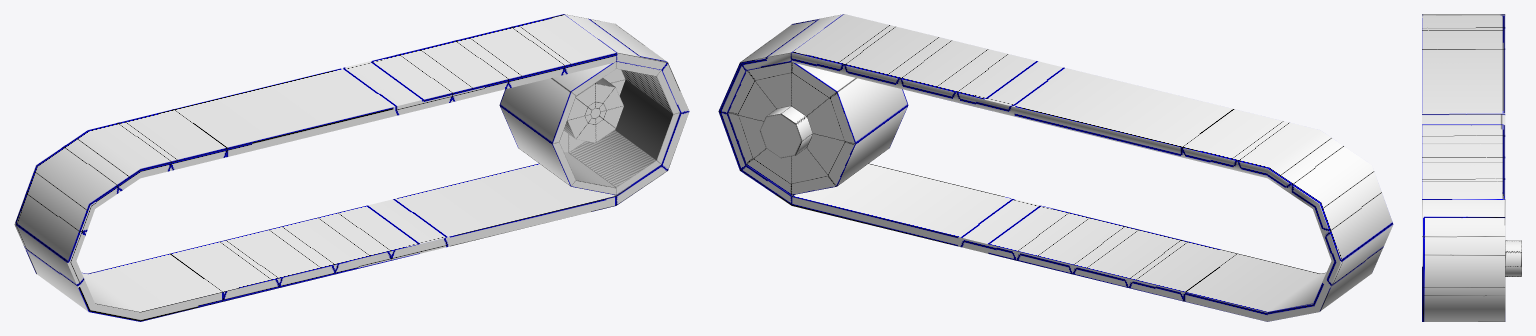
The model's file is robottrackandwheelstuff.obj.
The picture shows the model from 3 angles, left to right: view 1: azimuth 30°, elevation 25°; view 2: azimuth 150°, elevation 25°; view 3: azimuth 270°, elevation 25°; orthographic projection. The views are drawn at different scales.
Visible parts, largest first — view 1: cylinder5, cylinder5_sep9; view 2: cylinder5, cylinder5_sep9; view 3: cylinder5, cylinder5_sep9.
Boxes of the visible parts, left/top/right/bottom form: cylinder5: left=14, top=14, right=689, bottom=321; cylinder5_sep9: left=499, top=61, right=680, bottom=195; cylinder5: left=718, top=14, right=1393, bottom=321; cylinder5_sep9: left=728, top=62, right=908, bottom=195; cylinder5: left=1422, top=14, right=1505, bottom=321; cylinder5_sep9: left=1505, top=240, right=1521, bottom=276.
Bounding box in the file's own units: 1.7 × 0.4 × 0.3.
1 material, 1 textured.
